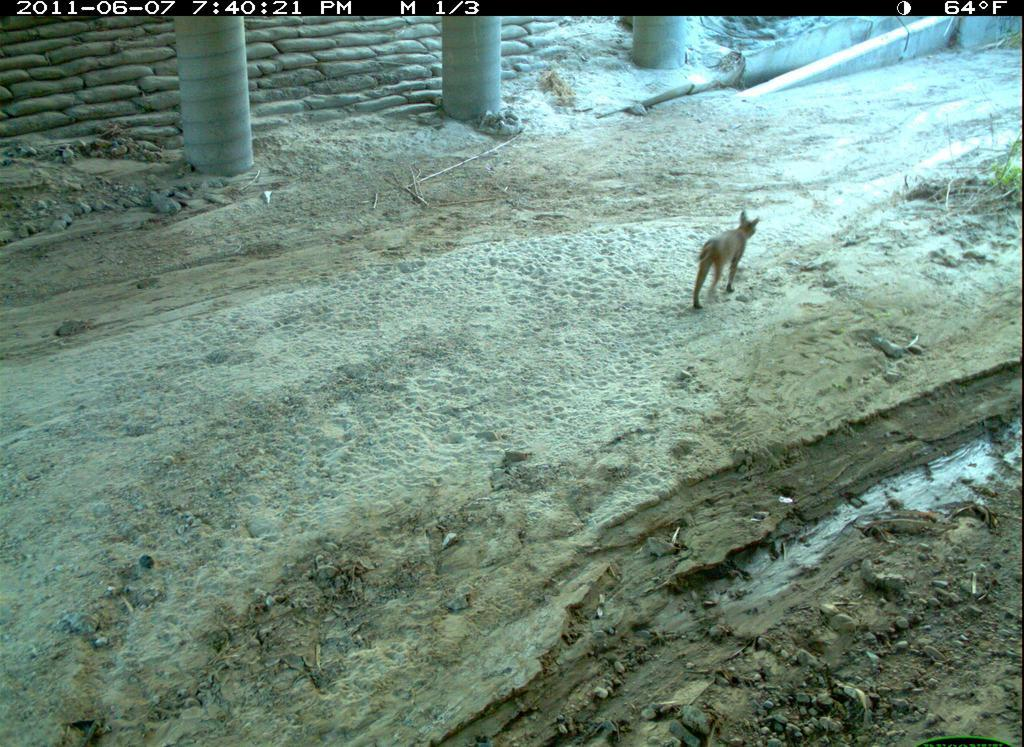bobcat: (683, 207, 766, 312)
